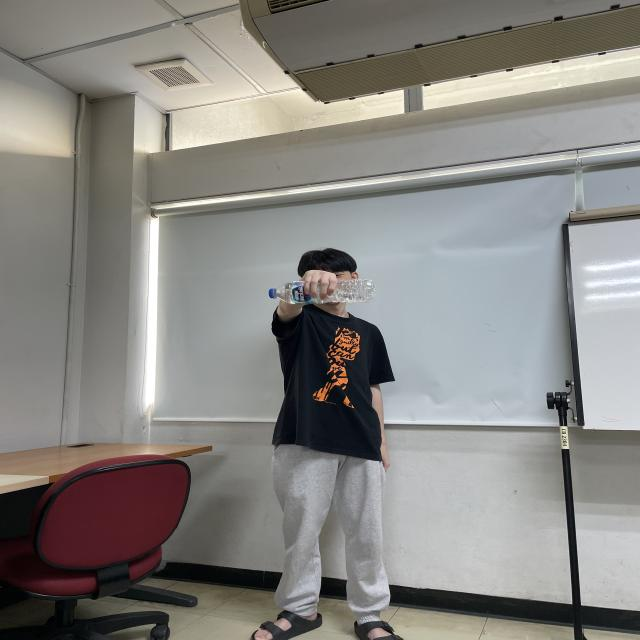bottle: (268, 278, 377, 306)
